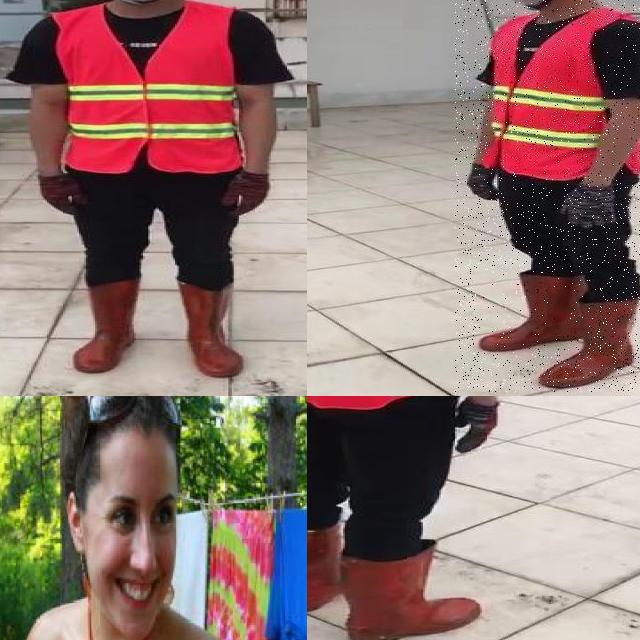boots: (341, 545, 481, 640), (542, 296, 638, 389), (476, 274, 588, 353), (178, 282, 244, 377), (76, 282, 138, 373), (307, 524, 341, 615)
face_nomask: (95, 493, 178, 614)
glasses: (0, 396, 281, 640), (75, 396, 182, 482)
hand_glove: (454, 400, 499, 452), (221, 173, 269, 217), (38, 175, 84, 217)
head_nohelmet: (54, 396, 197, 460)
person: (13, 0, 292, 385), (455, 0, 640, 392), (307, 396, 528, 640)
vest: (61, 3, 241, 175), (486, 11, 640, 178)
